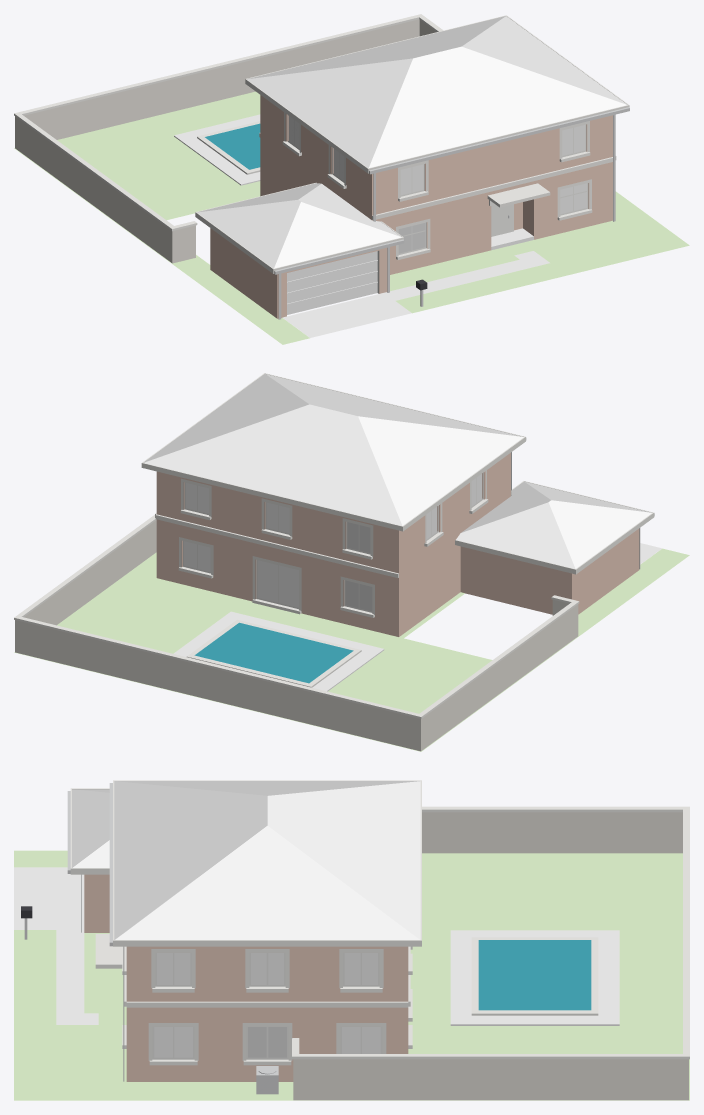
File: house_villa84.glb
3 views of the same model, one above another, from view 1: azimuth 30°, elevation 25°; view 2: azimuth 150°, elevation 25°; view 3: azimuth 270°, elevation 25° (orthographic). The views are drawn at different scales.
Visible parts, largest first — view 1: house_villa84_Roof, house_villa84_Walls, house_villa84_Lawn, house_villa84_Walls2, house_villa84_Trim, house_villa84_Site, house_villa84_Doors, house_villa84_Details, house_villa84_Glass, house_villa84_Frames, house_villa84_Water, house_villa84_WindowsLit; view 2: house_villa84_Roof, house_villa84_Walls, house_villa84_Walls2, house_villa84_Lawn, house_villa84_Trim, house_villa84_Water, house_villa84_Glass, house_villa84_Site, house_villa84_WindowsLit, house_villa84_Frames; view 3: house_villa84_Lawn, house_villa84_Roof, house_villa84_Walls2, house_villa84_Walls, house_villa84_Trim, house_villa84_Site, house_villa84_Water, house_villa84_Glass, house_villa84_Details, house_villa84_Frames, house_villa84_WindowsLit.
Boxes of the visible parts, x1,y1,x2,y2 form: house_villa84_Roof: (197,16,627,268); house_villa84_Walls: (210,95,612,318); house_villa84_Lawn: (14,91,689,344); house_villa84_Walls2: (15,19,436,263); house_villa84_Trim: (14,14,629,293); house_villa84_Site: (174,114,549,337); house_villa84_Doors: (287,251,377,314); house_villa84_Details: (274,107,629,319); house_villa84_Glass: (289,116,586,214); house_villa84_Frames: (287,115,588,254); house_villa84_Water: (205,123,260,169); house_villa84_WindowsLit: (398,222,425,253); house_villa84_Roof: (143,374,651,568); house_villa84_Walls: (156,453,639,636); house_villa84_Walls2: (15,520,578,751); house_villa84_Lawn: (14,548,689,751); house_villa84_Trim: (14,373,654,718); house_villa84_Water: (194,622,353,683); house_villa84_Glass: (184,474,482,607); house_villa84_Site: (173,543,661,691); house_villa84_WindowsLit: (345,522,372,611); house_villa84_Frames: (183,473,483,612); house_villa84_Lawn: (14,850,689,1100); house_villa84_Roof: (72,781,420,939); house_villa84_Walls2: (293,812,688,1100); house_villa84_Walls: (84,874,408,1081); house_villa84_Trim: (70,780,689,1065); house_villa84_Site: (14,867,619,1025); house_villa84_Water: (478,940,591,1010); house_villa84_Glass: (154,953,380,1057); house_villa84_Details: (24,783,278,1094); house_villa84_Frames: (152,952,382,1059); house_villa84_WindowsLit: (248,1027,286,1057).
Size of the model in its own units: 84 by 30.85 by 96.
